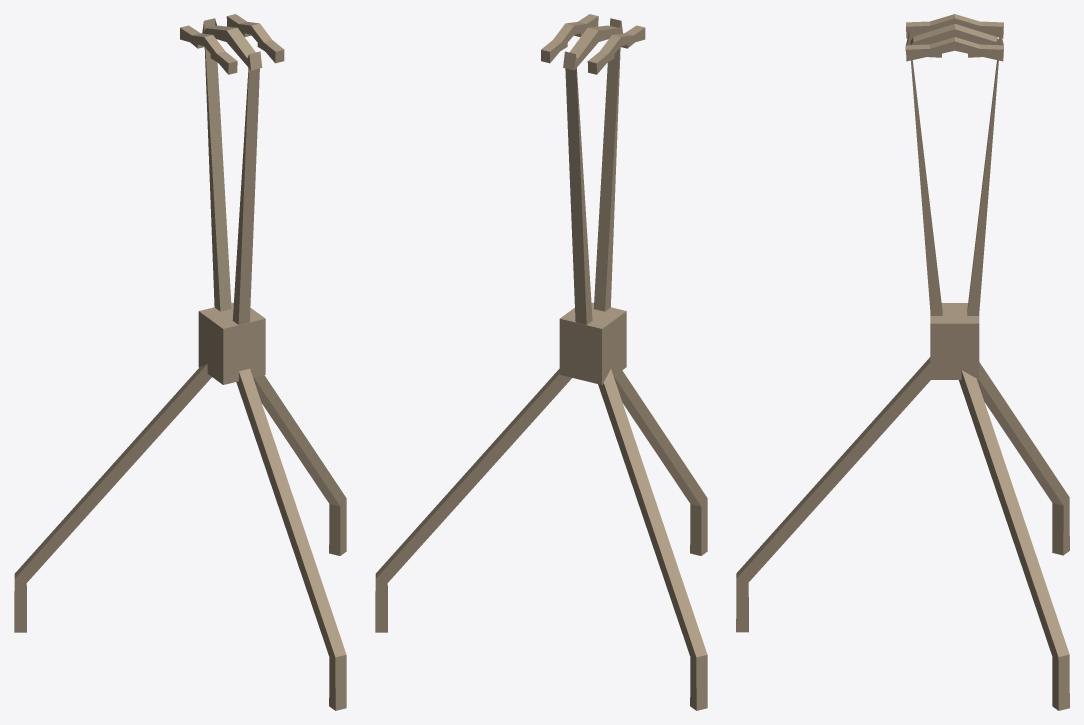
File: SM_Vendor_TahoSling_02.fbx
3 renders of one model, left to right at view 1: azimuth 30°, elevation 25°; view 2: azimuth 150°, elevation 25°; view 3: azimuth 270°, elevation 25°, orthographic.
Parts seen in each view (by area): view 1: SM_Vendor_TahoSling_02; view 2: SM_Vendor_TahoSling_02; view 3: SM_Vendor_TahoSling_02.
Boxes of the visible parts, box(x1,y1,x2,y2) form: SM_Vendor_TahoSling_02: box(14, 14, 346, 710); SM_Vendor_TahoSling_02: box(375, 14, 707, 710); SM_Vendor_TahoSling_02: box(736, 14, 1069, 710).
Bounding box in the file's own units: 0.2977 × 0.514 × 0.2578.
Materials: 1 (1 with a texture image).
